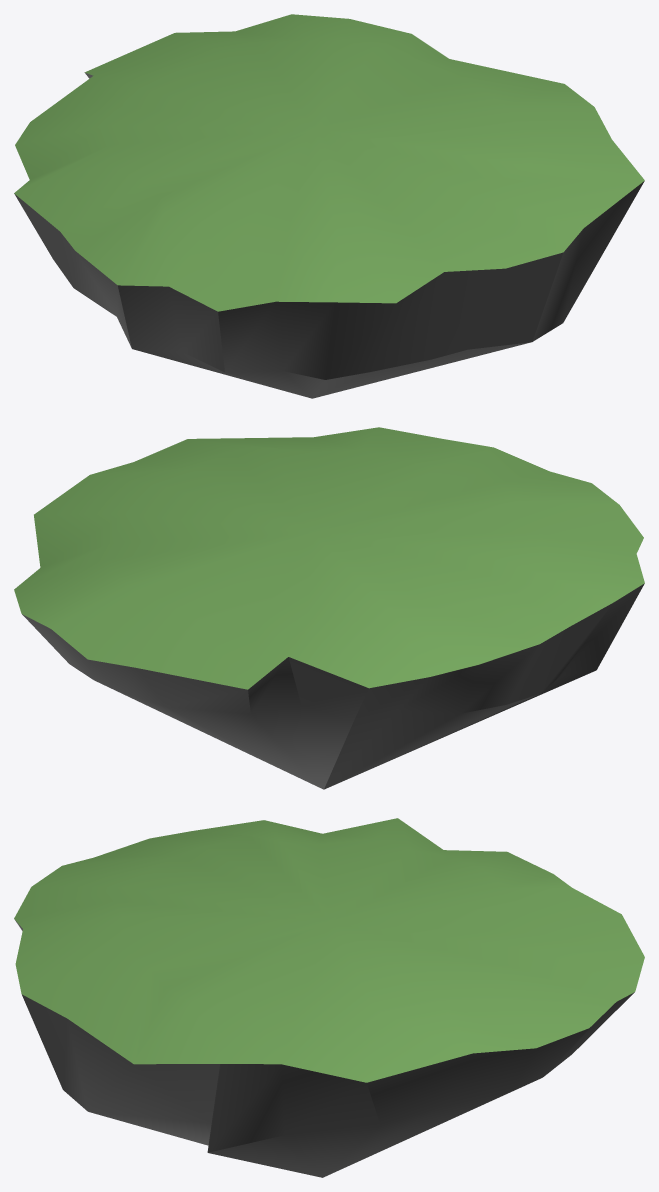
File: fIsland01.fbx
The picture shows the model from 3 angles, top to bottom: view 1: azimuth 30°, elevation 25°; view 2: azimuth 150°, elevation 25°; view 3: azimuth 270°, elevation 25°; orthographic projection. The views are drawn at different scales.
Visible parts, largest first — view 1: Circle.008; view 2: Circle.008; view 3: Circle.008.
Part boxes in pixels (bbox=[...]): Circle.008: bbox=[14, 14, 644, 398]; Circle.008: bbox=[14, 427, 644, 789]; Circle.008: bbox=[14, 818, 644, 1177].
Size of the model in its own units: 394 by 184 by 406.
